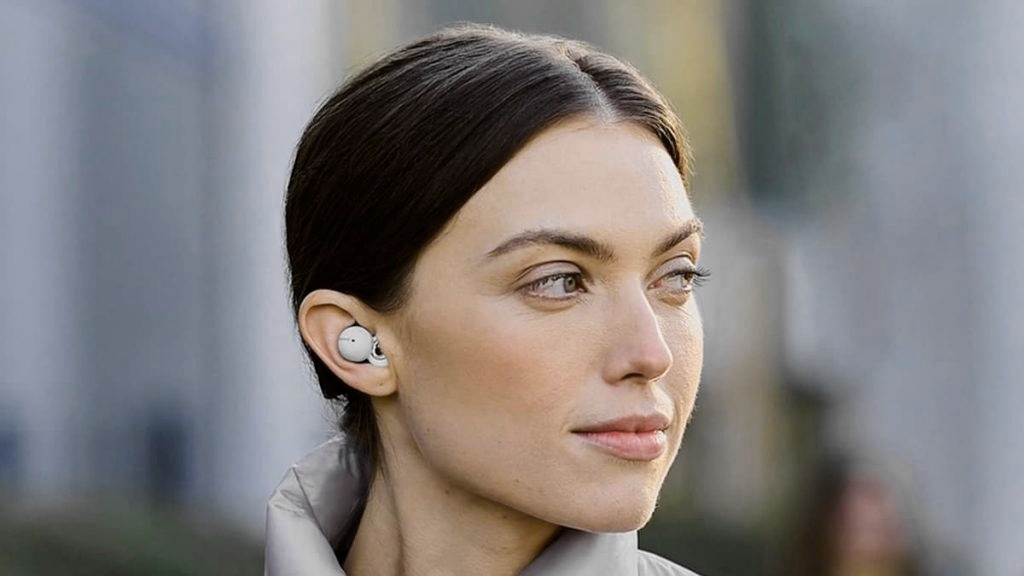earphone: (298, 289, 401, 397)
